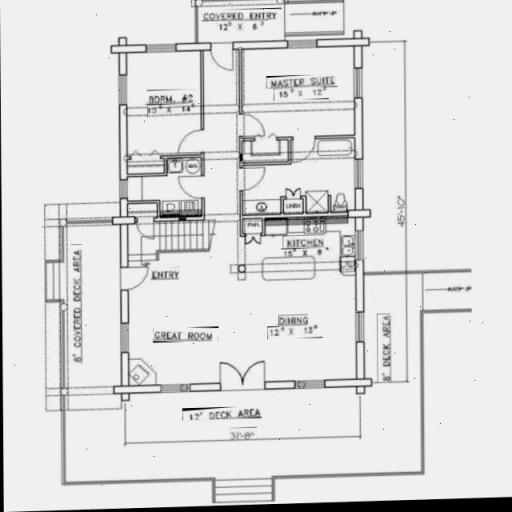Room: (245, 293, 353, 382)
bedroom: (126, 54, 206, 168)
hall: (128, 289, 239, 382)
kitchen: (248, 58, 342, 157), (242, 219, 356, 287)
